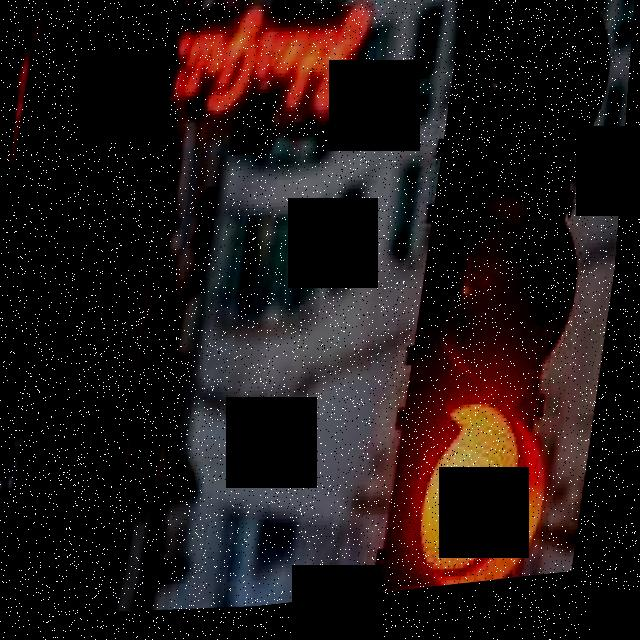red: (387, 0, 625, 603)
